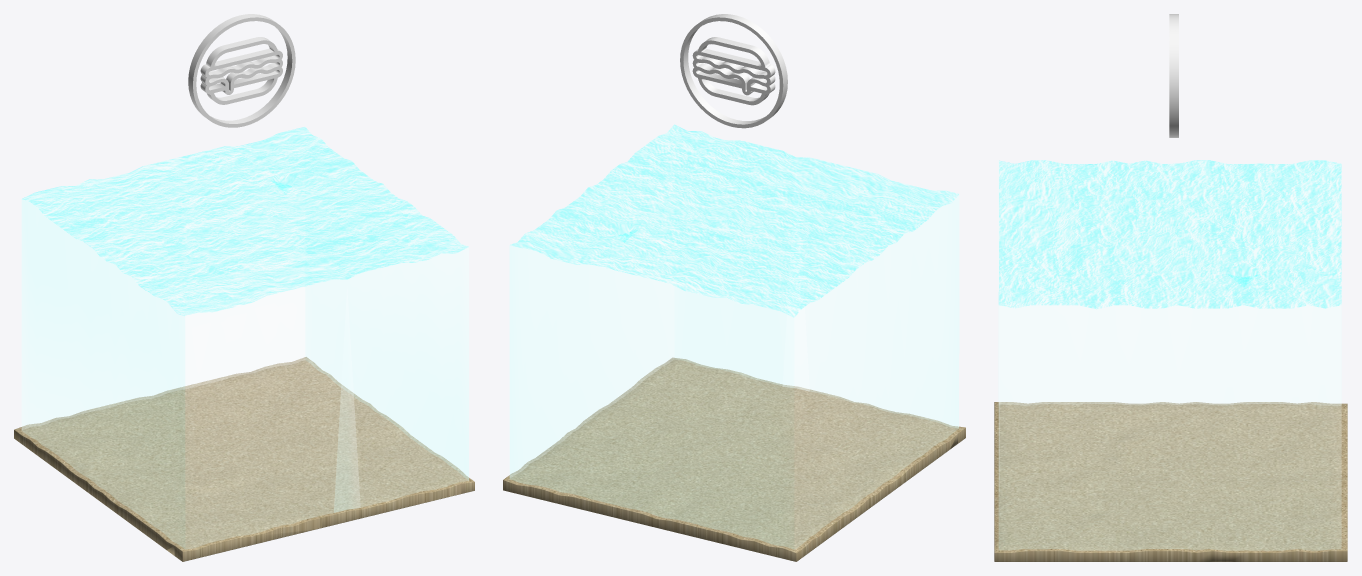
File: water-lower-burger-trans2.glb
3 renders of one model, left to right at view 1: azimuth 30°, elevation 25°; view 2: azimuth 150°, elevation 25°; view 3: azimuth 270°, elevation 25°, orthographic. The views are drawn at different scales.
Visible parts, largest first — view 1: Plane.002_0, Sand, Plane.002_1, Curve.014; view 2: Plane.002_0, Sand, Plane.002_1, Curve.014; view 3: Plane.002_0, Sand, Plane.002_1, Curve.014.
Boxes of the visible parts, box(x1,y1,x2,y2) form: Plane.002_0: box(21, 199, 468, 548); Sand: box(14, 357, 474, 561); Plane.002_1: box(22, 127, 468, 315); Curve.014: box(188, 14, 295, 127); Plane.002_0: box(509, 165, 959, 549); Sand: box(503, 357, 965, 561); Plane.002_1: box(510, 124, 958, 317); Curve.014: box(680, 14, 787, 128); Plane.002_0: box(998, 161, 1341, 550); Sand: box(994, 402, 1347, 561); Plane.002_1: box(998, 160, 1341, 309); Curve.014: box(1169, 14, 1178, 137).
Size of the model in its own units: 107 by 156 by 107.
4 materials, 2 textured.
